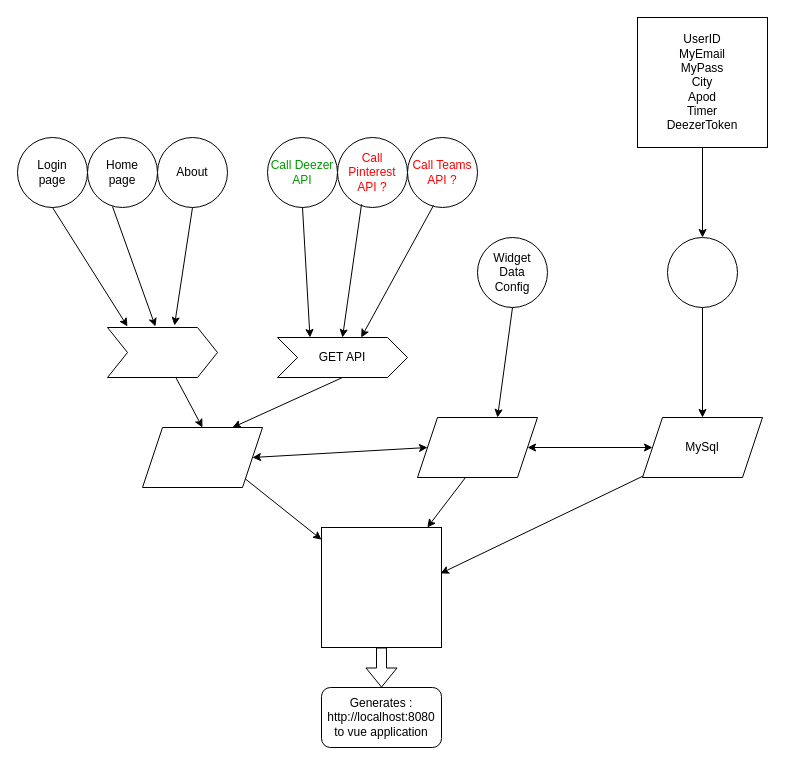
Image size: 785x765. Some labels were removed from this diagram. The centre of each missing label's shape, as x and y in pixels:
"BackEnd: .NET" belongs at (x=477, y=447).
"Docker Compose Runs 3 services" belongs at (x=381, y=587).
"Frontend: Vuejs" belongs at (x=202, y=457).
"Routes" belongs at (x=162, y=352).
"User Table" belongs at (x=702, y=272).
